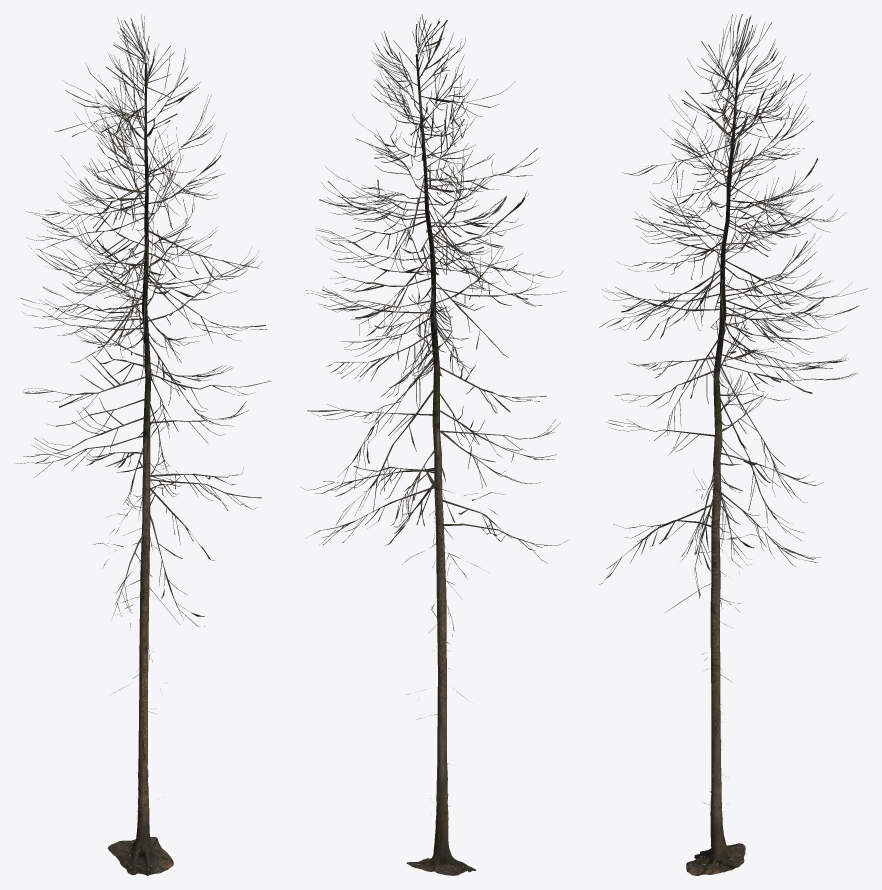
File: fir_tree_01_a_middle.gltf
3 renders of one model, left to right at view 1: azimuth 30°, elevation 25°; view 2: azimuth 150°, elevation 25°; view 3: azimuth 270°, elevation 25°, orthographic. The views are drawn at different scales.
Visible parts, largest first — view 1: fir_tree_01_a_LOD0.001; view 2: fir_tree_01_a_LOD0.001; view 3: fir_tree_01_a_LOD0.001.
Part boxes in pixels (<box>): fir_tree_01_a_LOD0.001: <box>16,14,270,875</box>; fir_tree_01_a_LOD0.001: <box>301,14,567,875</box>; fir_tree_01_a_LOD0.001: <box>599,14,867,875</box>.
Size of the model in its own units: 5.46 by 18.5 by 5.31.
3 materials, 3 textured.
